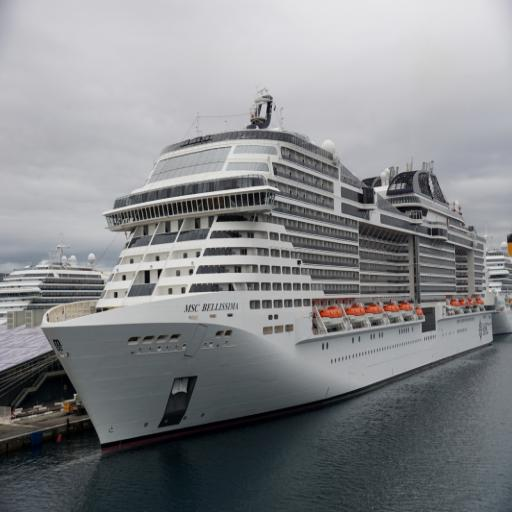cruises: (38, 95, 498, 465)
